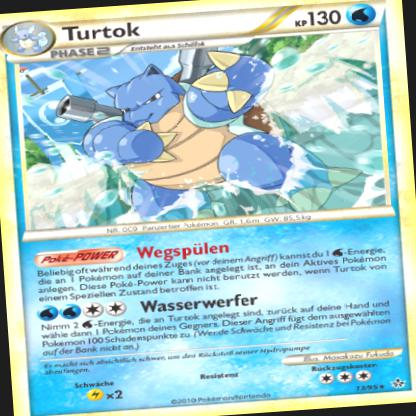Blastoise: (49, 42, 344, 228)
